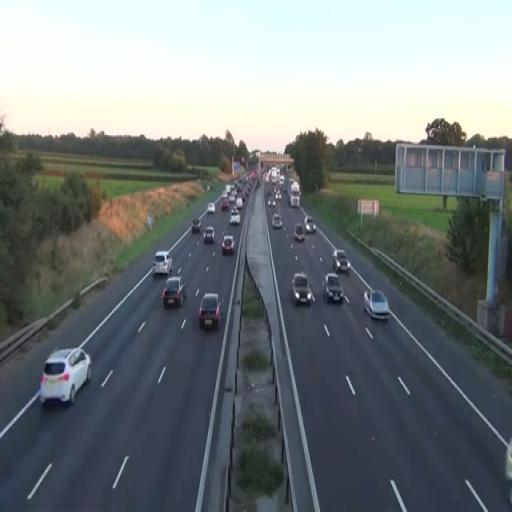Car: (39, 345, 92, 407), (198, 293, 222, 331), (363, 288, 390, 321), (161, 277, 185, 309), (292, 272, 312, 306), (323, 272, 344, 304), (152, 251, 173, 277), (332, 250, 350, 274), (222, 234, 235, 254), (294, 223, 306, 242), (204, 226, 214, 245), (272, 213, 282, 229), (230, 208, 240, 224)
